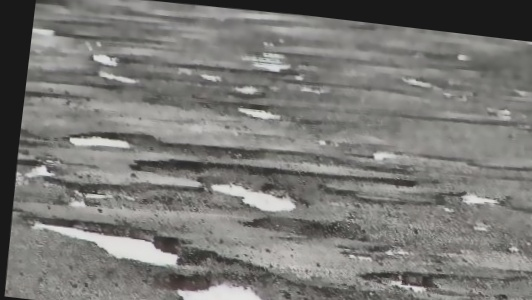pothole: (23, 207, 229, 277), (161, 266, 281, 300), (206, 175, 303, 217), (63, 122, 160, 157), (158, 134, 265, 165), (351, 261, 444, 295), (130, 154, 212, 186)
